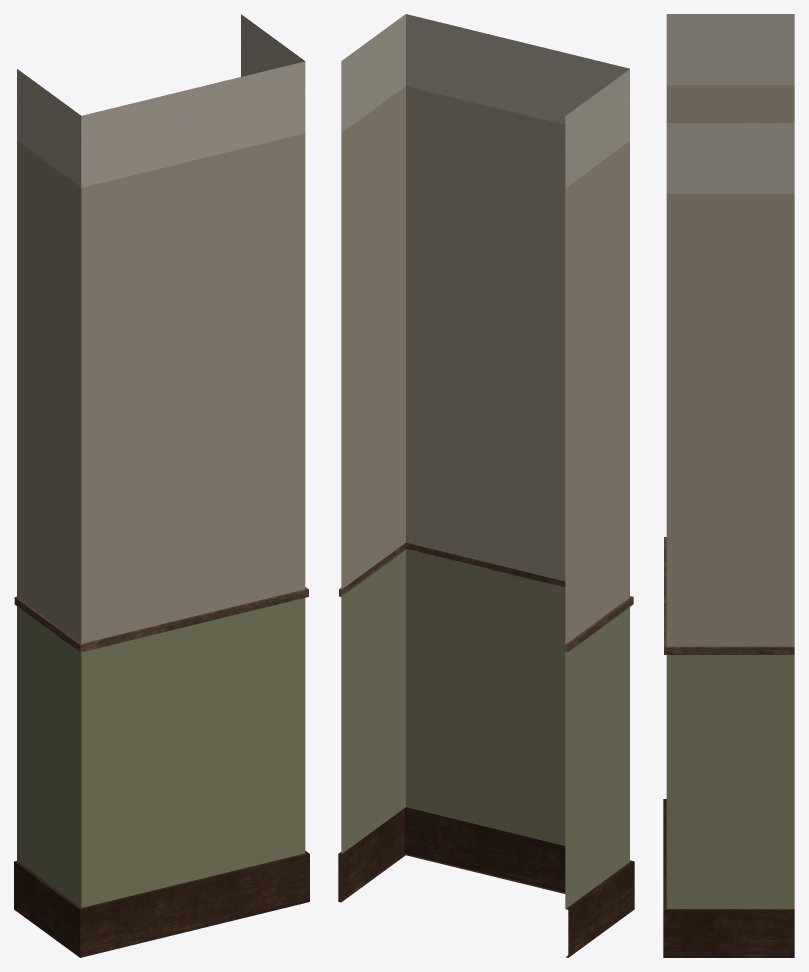
Rendered from Half_Pillar.fbx.
The picture shows the model from 3 angles, left to right: view 1: azimuth 30°, elevation 25°; view 2: azimuth 150°, elevation 25°; view 3: azimuth 270°, elevation 25°; orthographic projection.
Visible parts, largest first — view 1: Half_Pillar; view 2: Half_Pillar; view 3: Half_Pillar.
Part boxes in pixels (box(x1,y1,x2,y2)): Half_Pillar: box(14, 14, 309, 957); Half_Pillar: box(338, 14, 634, 957); Half_Pillar: box(663, 14, 794, 957).
Bounding box in the file's own units: 100 × 350 × 50.
